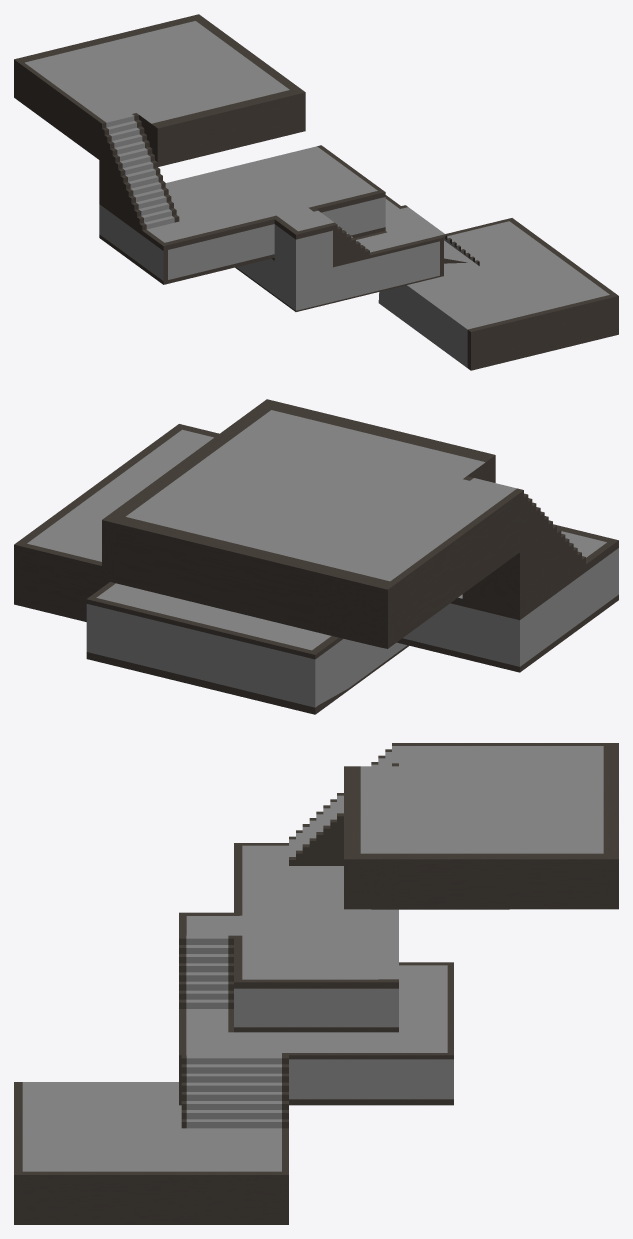
The model's file is floor_robo.fbx.
3 views of the same model, one above another, from view 1: azimuth 30°, elevation 25°; view 2: azimuth 150°, elevation 25°; view 3: azimuth 270°, elevation 25° (orthographic). The views are drawn at different scales.
Visible parts, largest first — view 1: floor; view 2: floor; view 3: floor.
Boxes of the visible parts, left/top/right/bottom form: floor: left=14, top=14, right=618, bottom=370; floor: left=14, top=399, right=618, bottom=714; floor: left=14, top=743, right=618, bottom=1224.
Size of the model in its own units: 1501 by 751 by 1651.
